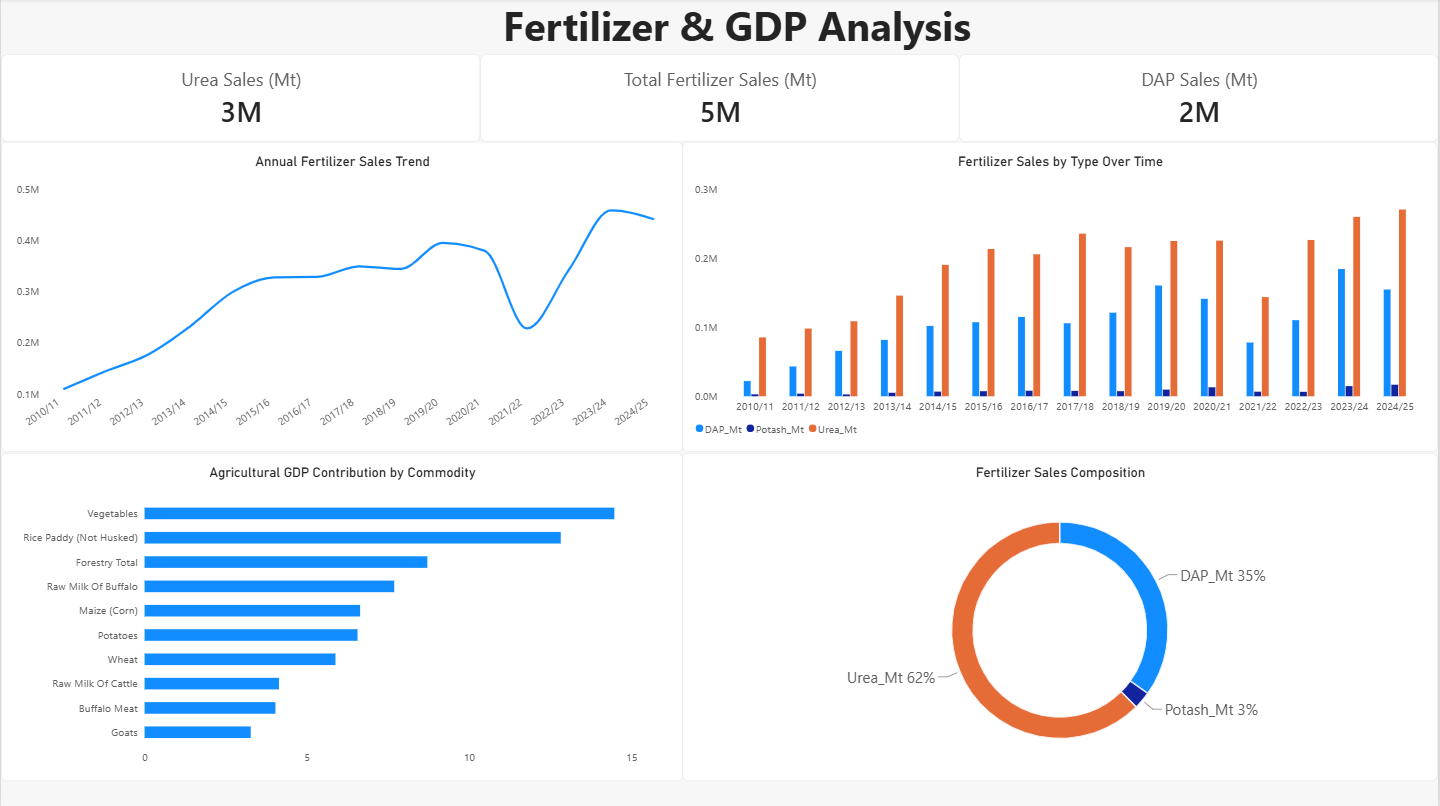

Layout of this report page (visuals, bound fields, positions):
{"tool":"powerbi","page":{"name":"Fertilizer and GDP Analysis","canvas":[1920,1080],"ordinal":5},"visuals":[{"type":"cardVisual","fields":{"Data":["_Measures.Urea Sales (Mt)","_Measures.Total Fertilizer Sales (Mt)","_Measures.DAP Sales (Mt)"]},"box":[0,74.8,1920,117.6],"z":0},{"type":"lineChart","title":"Annual Fertilizer Sales Trend","fields":{"Category":["Chemical_Fertilizer_Sales_Yearly.Fiscal_Year"],"Y":["_Measures.Total Fertilizer Sales (Mt)"]},"box":[0,192.4,910.8,414.8],"z":1000},{"type":"clusteredColumnChart","title":"Fertilizer Sales by Type Over Time","fields":{"Category":["Chemical_Fertilizer_Sales_Yearly.Fiscal_Year"],"Y":["Sum(Chemical_Fertilizer_Sales_Yearly.DAP_Mt)","Sum(Chemical_Fertilizer_Sales_Yearly.Potash_Mt)","Sum(Chemical_Fertilizer_Sales_Yearly.Urea_Mt)"]},"box":[910.8,192.4,1009.2,414.8],"z":2000},{"type":"clusteredBarChart","title":"Agricultural GDP Contribution by Commodity","fields":{"Category":["Agriculture_GDP_Commodity_Contribution.Commodity"],"Y":["_Measures.Commodity Contribution (%)"]},"box":[0,607.2,910.8,438.3],"z":3000},{"type":"donutChart","title":"Fertilizer Sales Composition","fields":{"Y":["Sum(Chemical_Fertilizer_Sales_Yearly.DAP_Mt)","Sum(Chemical_Fertilizer_Sales_Yearly.Potash_Mt)","Sum(Chemical_Fertilizer_Sales_Yearly.Urea_Mt)"]},"box":[910.8,607.2,1009.2,438.3],"z":4000},{"type":"textbox","box":[369.9,0,1225.1,132.6],"z":5000}]}

Visuals, with their boxes in screenshot pixels (x1, y1, x2, y2), scaled from the page's 1920x1080 canvas onto the 1440x806 screenshot:
cardVisual - _Measures.Urea Sales (Mt) x _Measures.Total Fertilizer Sales (Mt): (0,56,1439,144)
"Annual Fertilizer Sales Trend" lineChart: (0,144,683,453)
"Fertilizer Sales by Type Over Time" clusteredColumnChart: (683,144,1439,453)
"Agricultural GDP Contribution by Commodity" clusteredBarChart: (0,453,683,780)
"Fertilizer Sales Composition" donutChart: (683,453,1439,780)
textbox: (277,0,1196,99)
